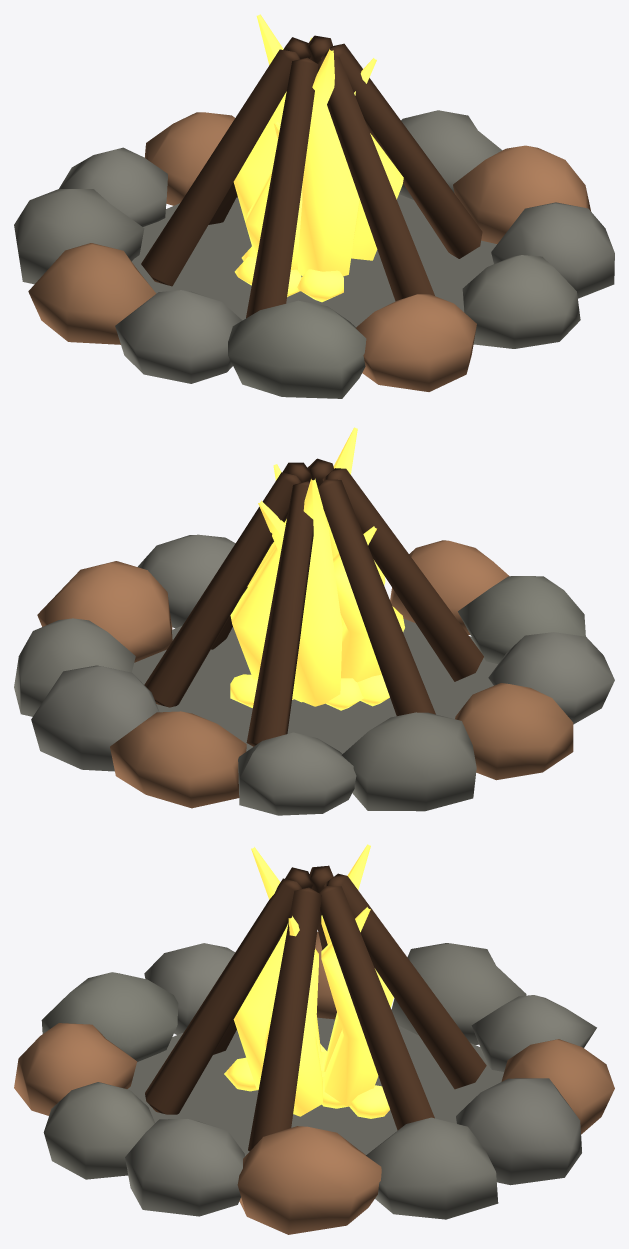
The model's file is prop_fire_pit_a.glb.
3 renders of one model, top to bottom at view 1: azimuth 30°, elevation 25°; view 2: azimuth 150°, elevation 25°; view 3: azimuth 270°, elevation 25°, orthographic.
Parts seen in each view (by area): view 1: prop_fire_pit_a_mesh; view 2: prop_fire_pit_a_mesh; view 3: prop_fire_pit_a_mesh.
Part boxes in pixels (x1,y1,x2,y2): prop_fire_pit_a_mesh: (14,14,614,398); prop_fire_pit_a_mesh: (14,427,614,815); prop_fire_pit_a_mesh: (14,844,614,1234).
Size of the model in its own units: 1.16 by 0.5272 by 1.14.
